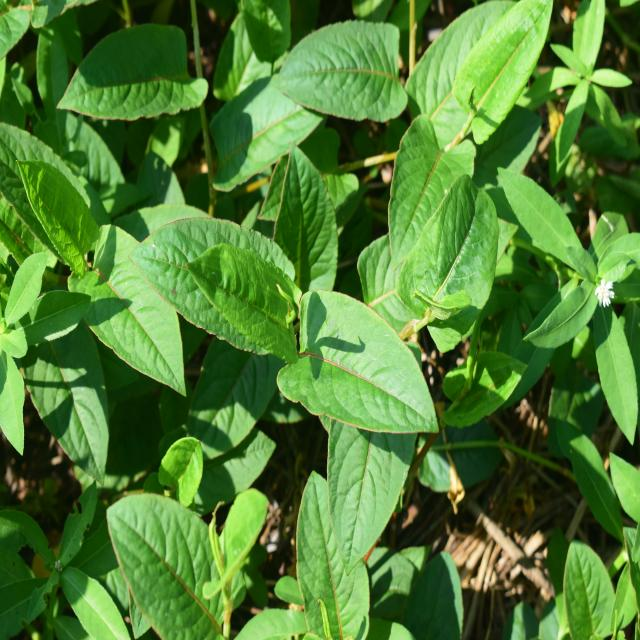Chinese_knotweed: (154, 122, 435, 532)
